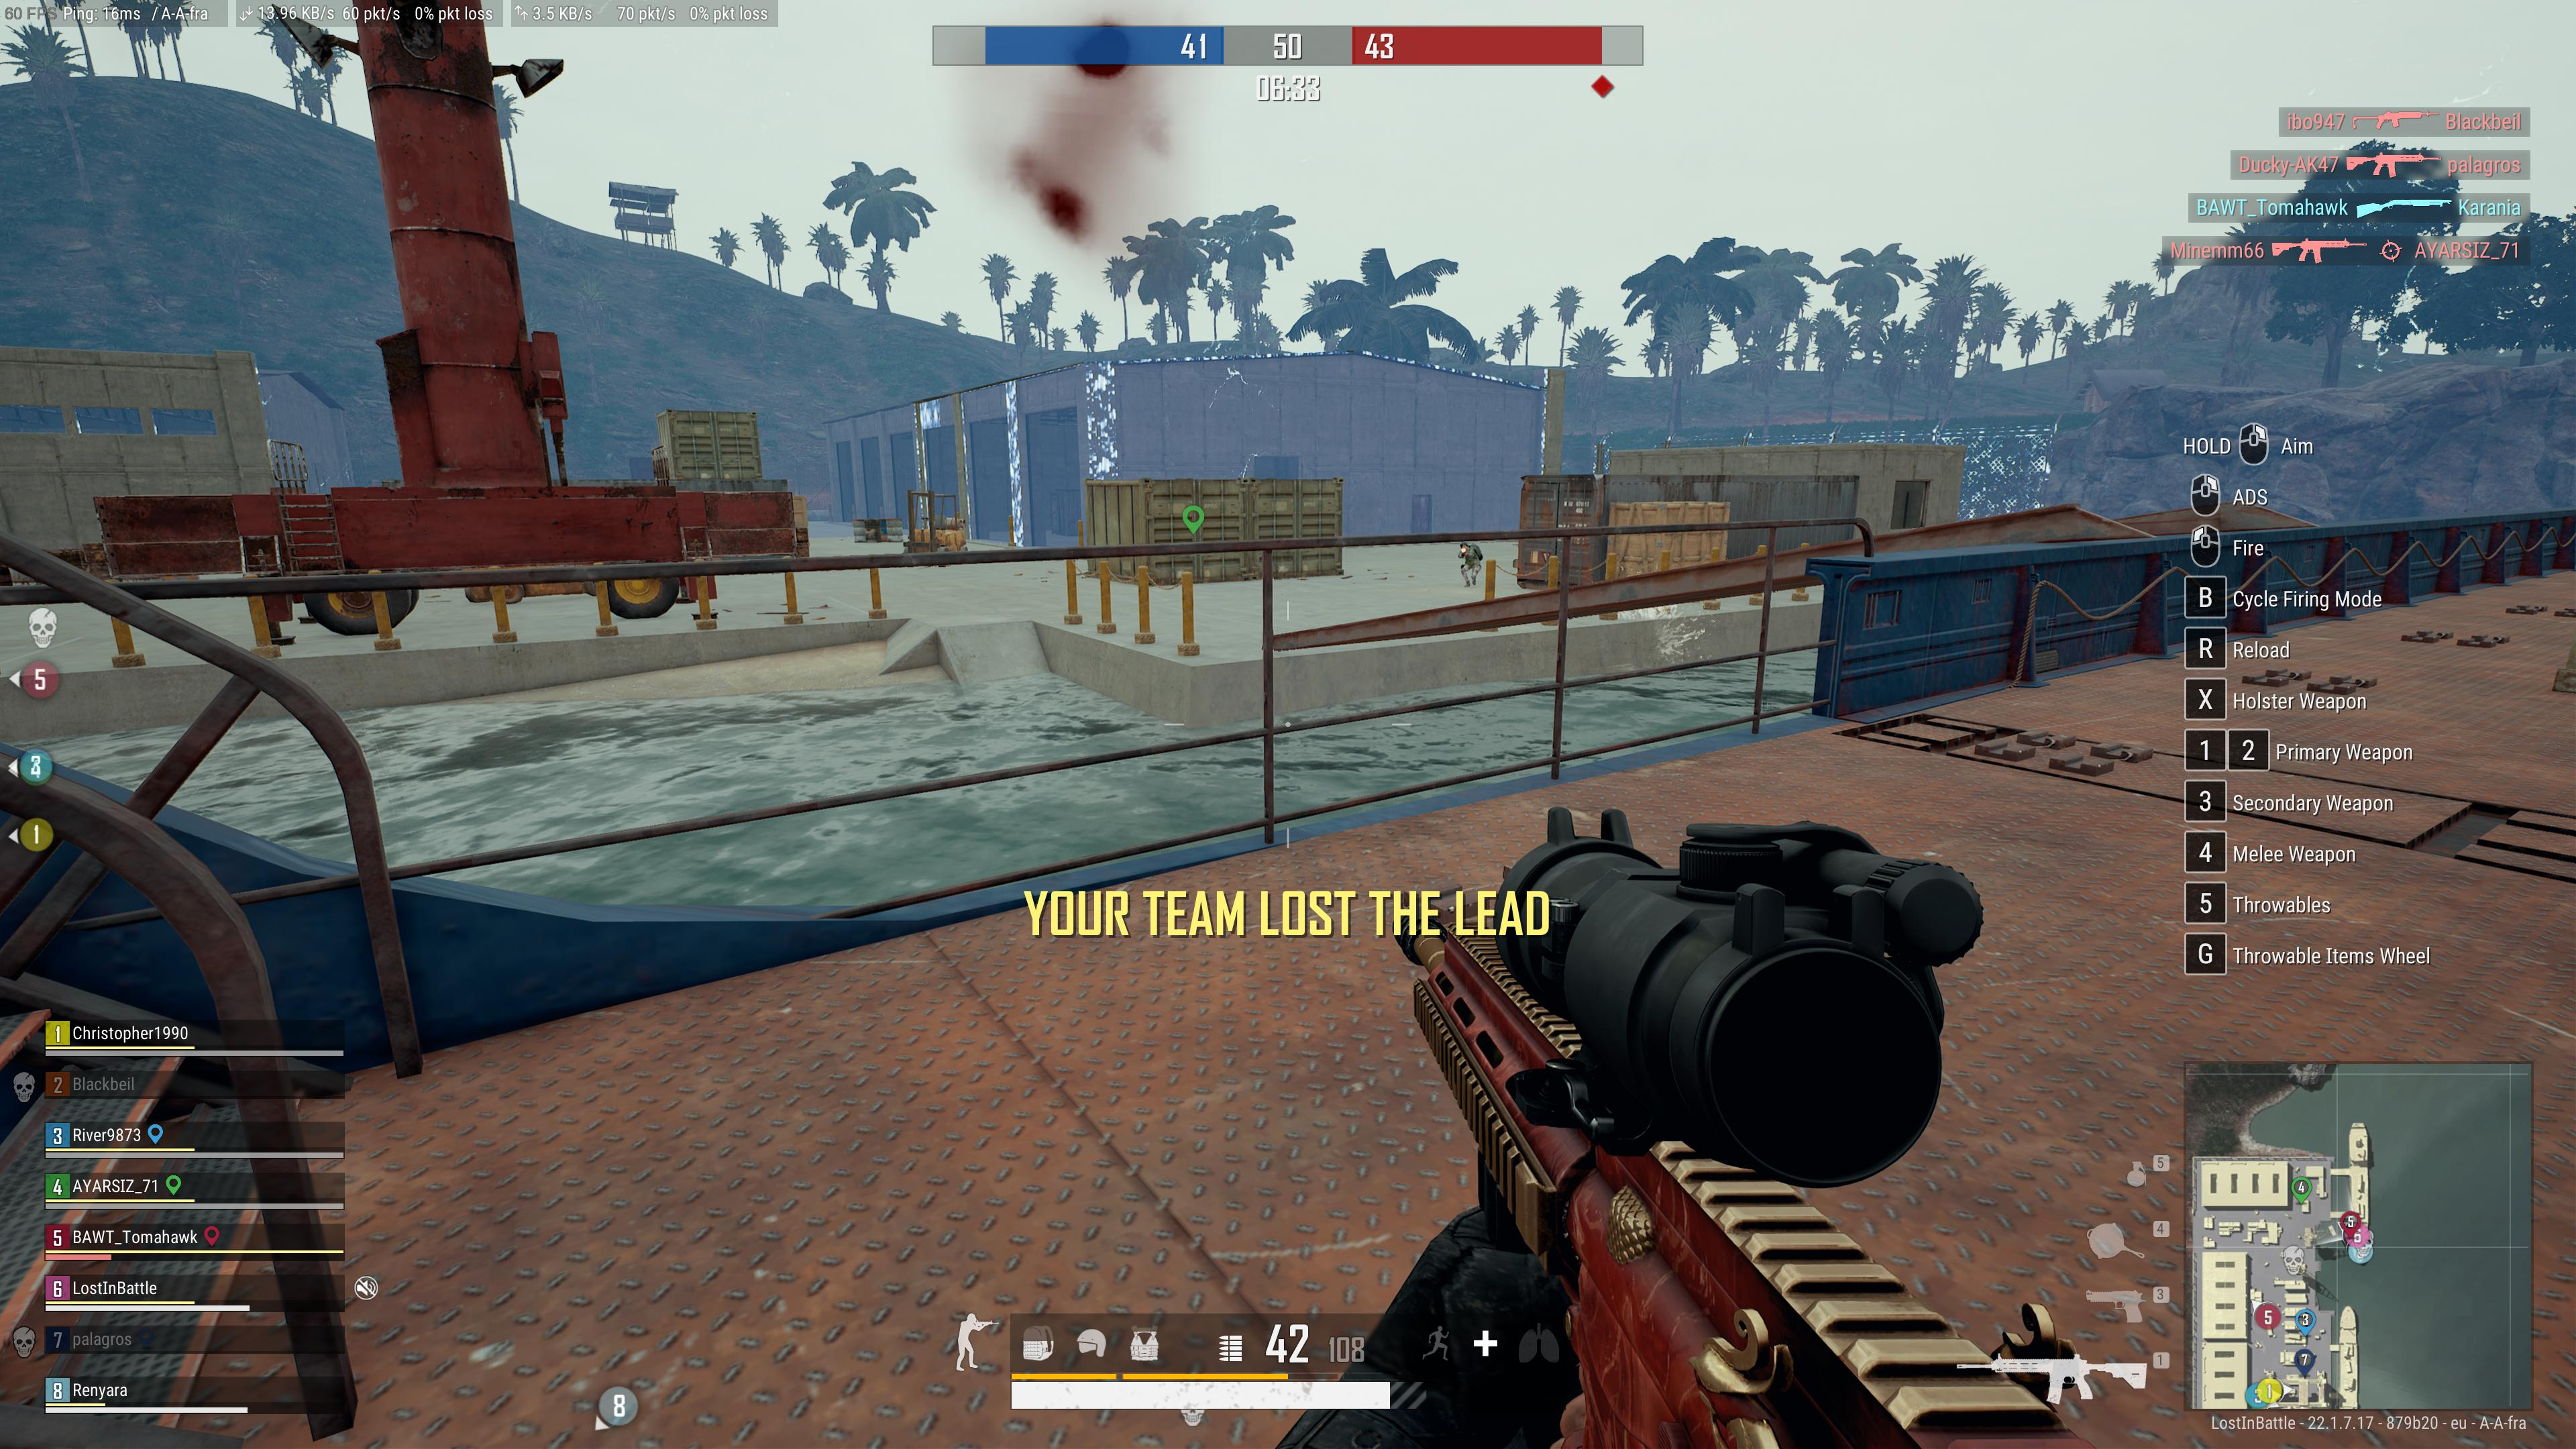enemy: (1458, 541, 1483, 587)
enemy_head: (1460, 541, 1468, 552)
